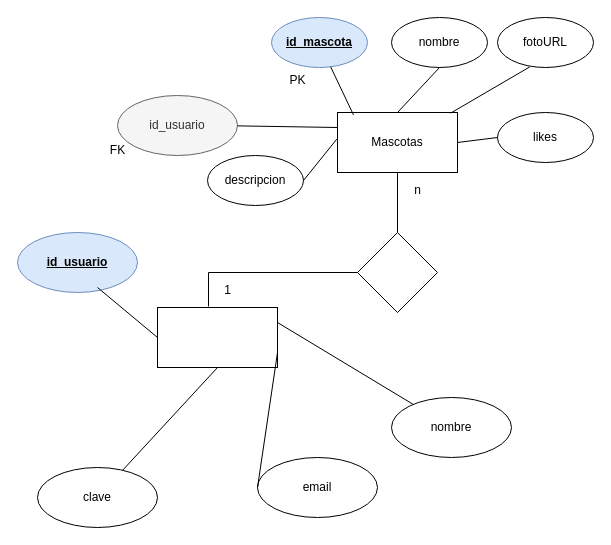
The diagram is 611 pixels wide and 545 high, and some of its shapes have lost their labels. Each missing label, with the centre of its shape:
"tiene" belongs at point 397,272.
"Usuarios" belongs at point 217,337.
